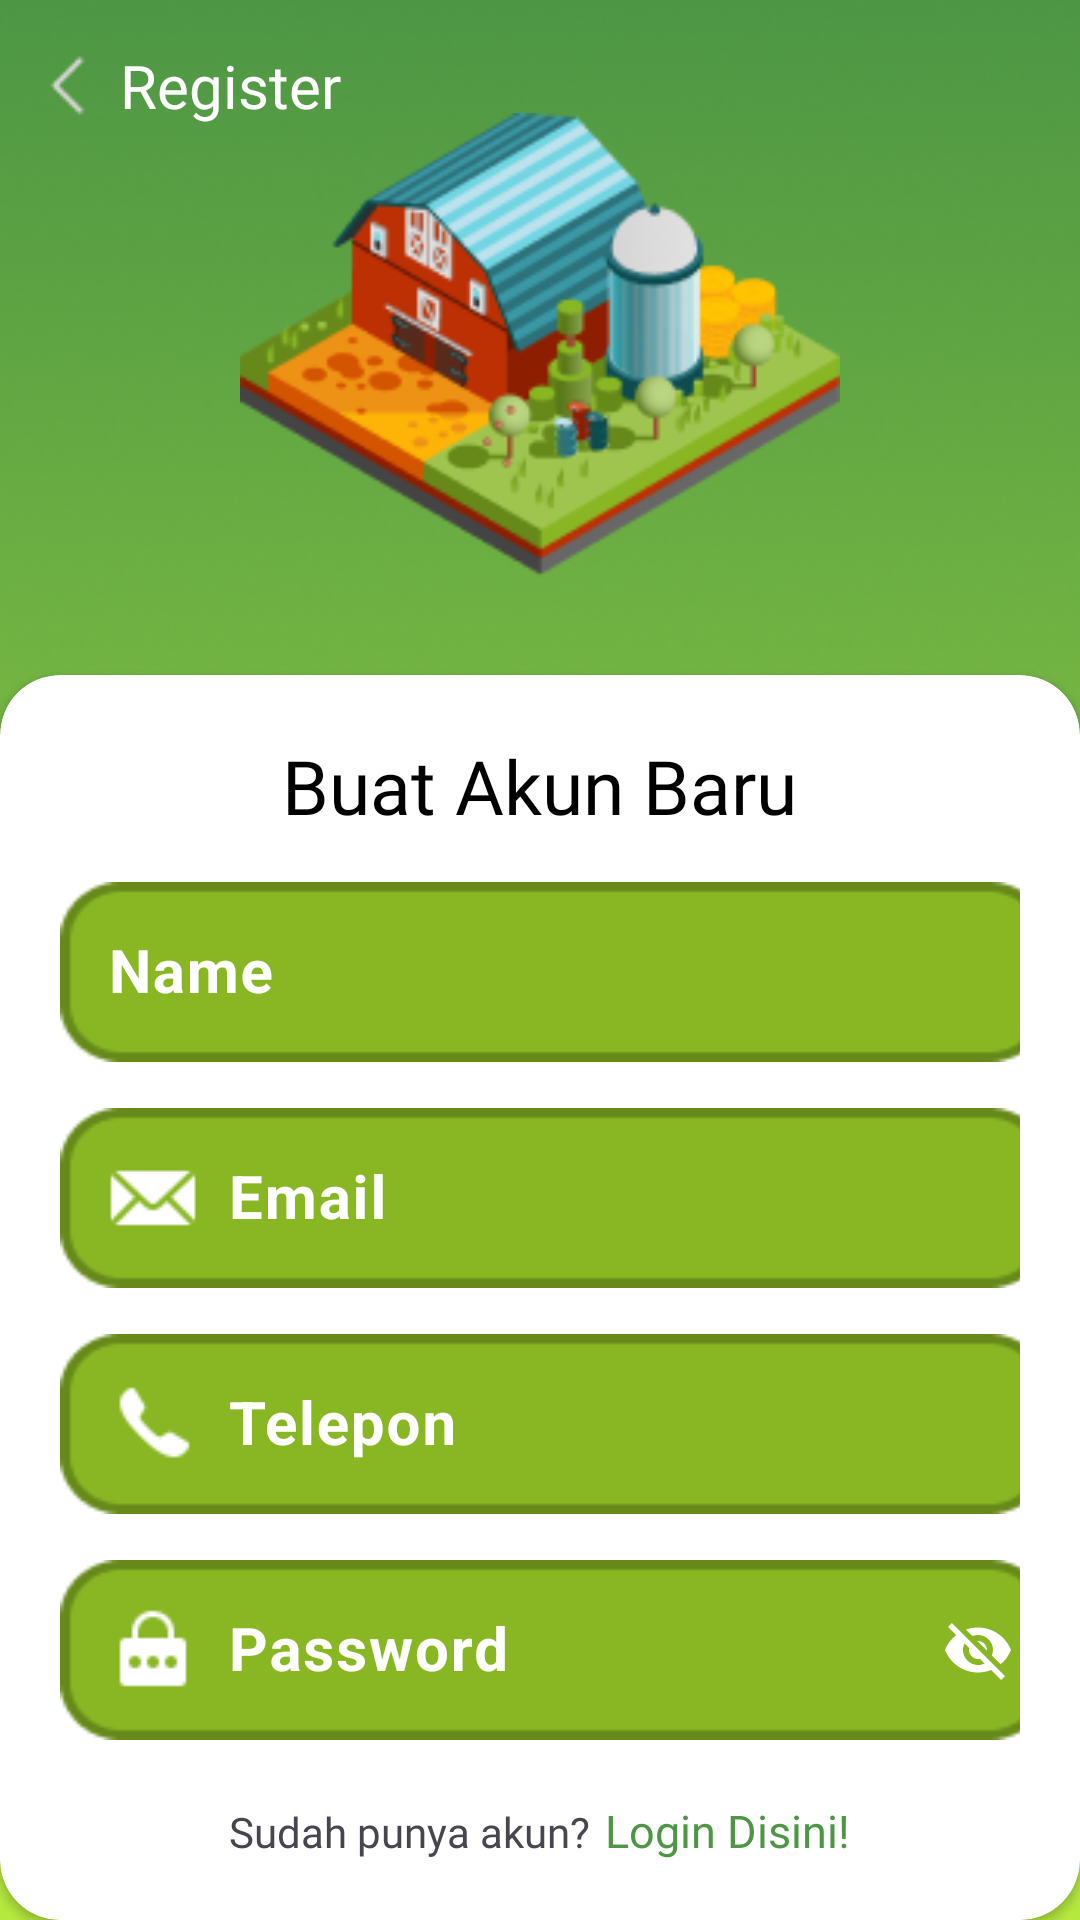

Icons on this 1080px×1920px Android screen, each with its box as (left=x1, top=y1, right=x2, bottom=y2):
back: (left=51, top=56, right=84, bottom=115)
